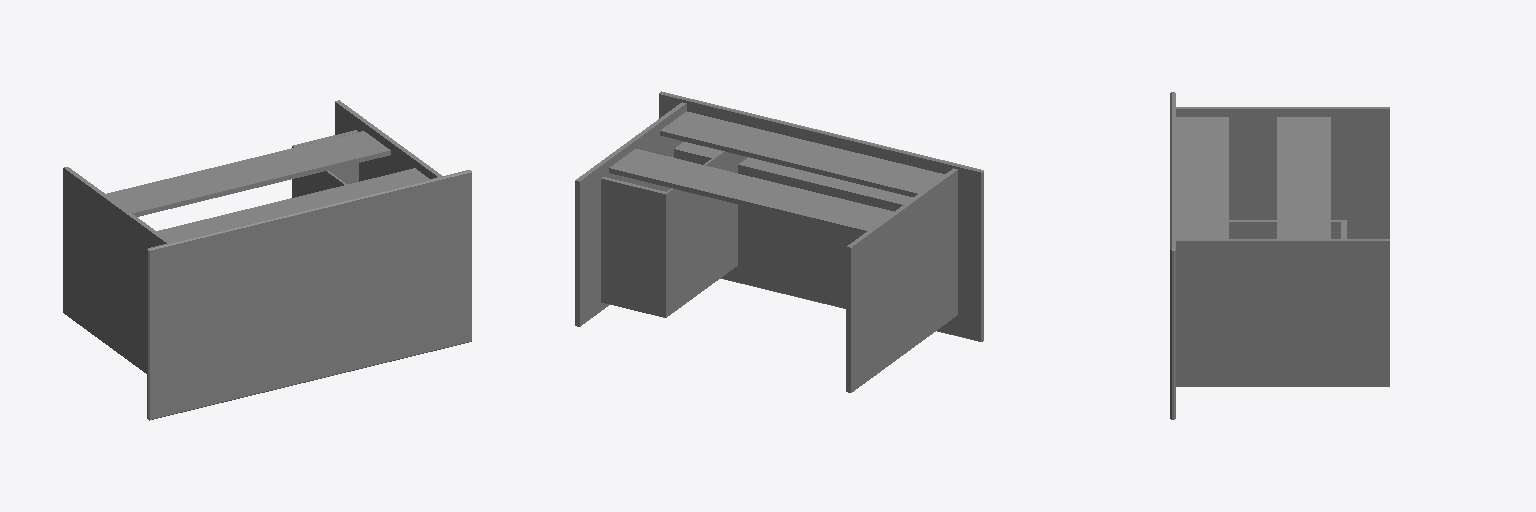
Rendered from table.obj.
The picture shows the model from 3 angles: view 1: azimuth 30°, elevation 25°; view 2: azimuth 150°, elevation 25°; view 3: azimuth 270°, elevation 25°; orthographic projection.
Parts seen in each view (by area): view 1: Table_Fram; view 2: Table_Fram, Drawer_obj, Drawer010; view 3: Table_Fram.
Boxes of the visible parts, x1=… form: Table_Fram: x1=63, y1=100, x2=471, y2=420; Table_Fram: x1=575, y1=91, x2=983, y2=392; Drawer_obj: x1=741, y1=165, x2=903, y2=290; Drawer010: x1=738, y1=157, x2=913, y2=293; Table_Fram: x1=1170, y1=92, x2=1389, y2=419.
Bounding box in the file's own units: 1.4 × 0.7069 × 0.8189.